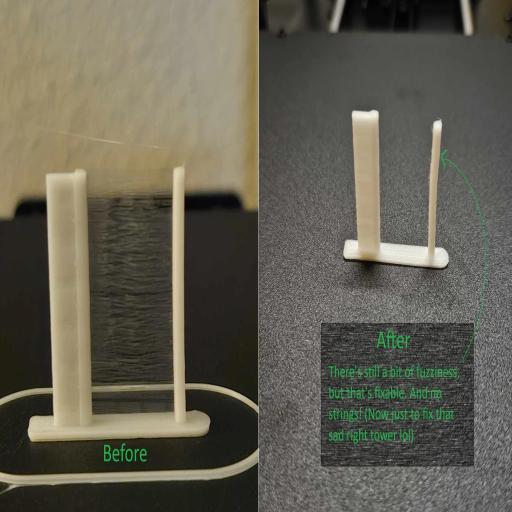stringing: (88, 197, 174, 384)
